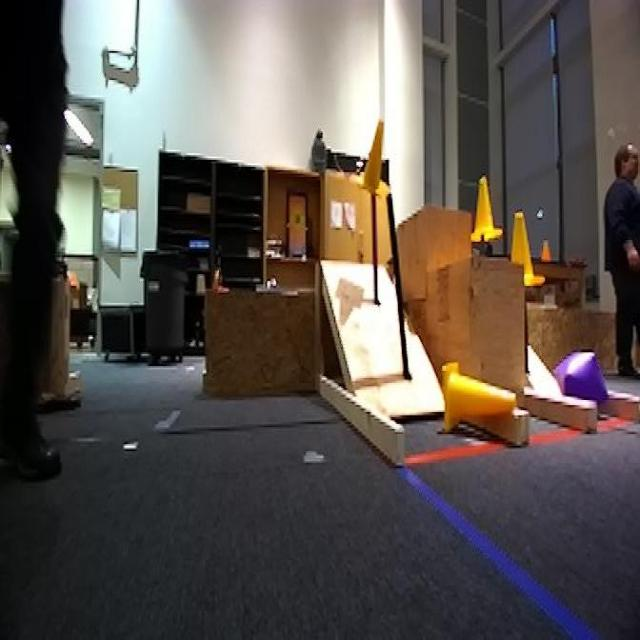frc_cone: (437, 358, 517, 432), (504, 215, 546, 291), (358, 116, 392, 199), (471, 177, 504, 245)
frc_cube: (559, 352, 609, 416)
